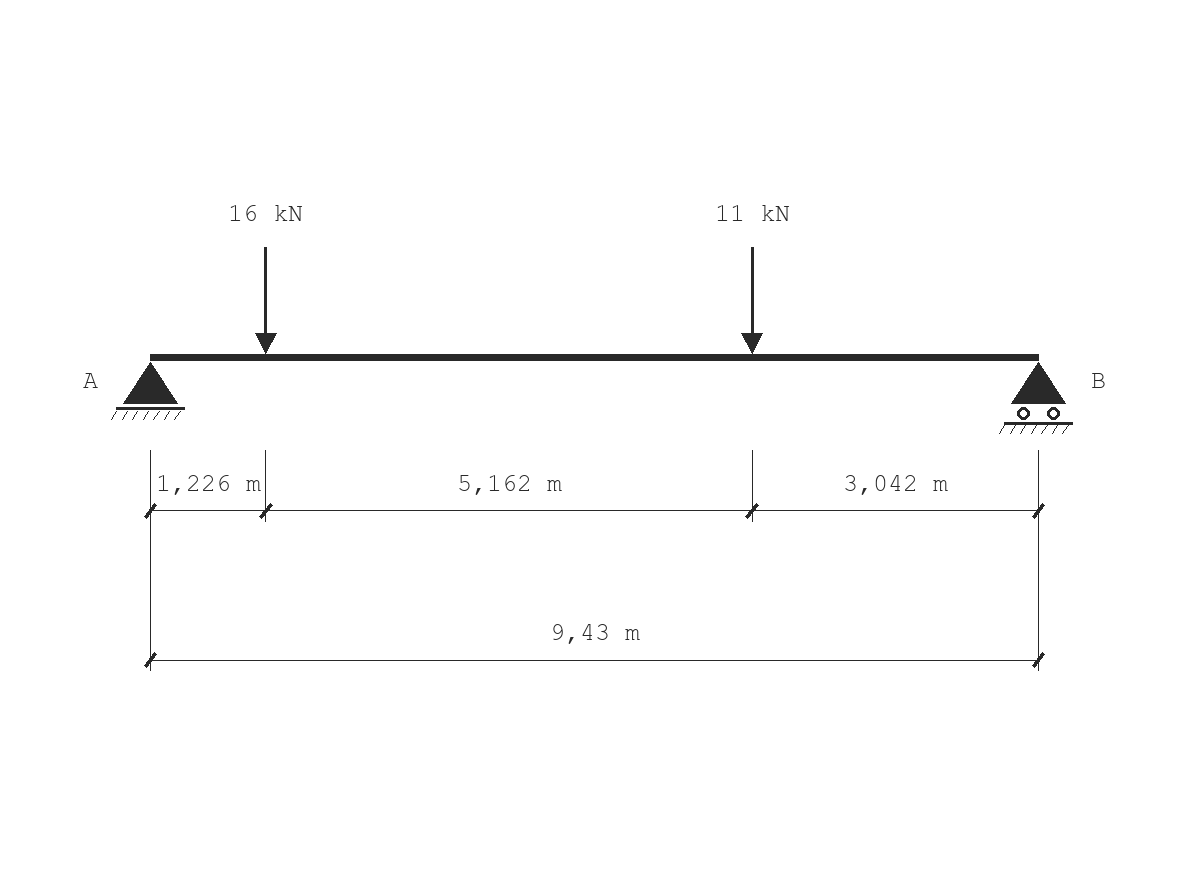pin_support: (111, 362, 185, 420)
point_load: (255, 247, 277, 354), (741, 247, 763, 354)
roller_support: (999, 362, 1073, 434)
